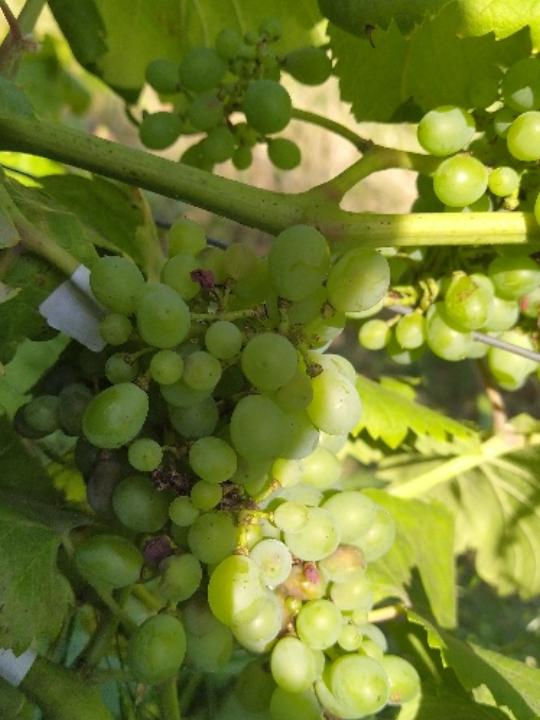grape: (7, 211, 423, 720), (354, 48, 540, 406), (131, 15, 336, 175)
